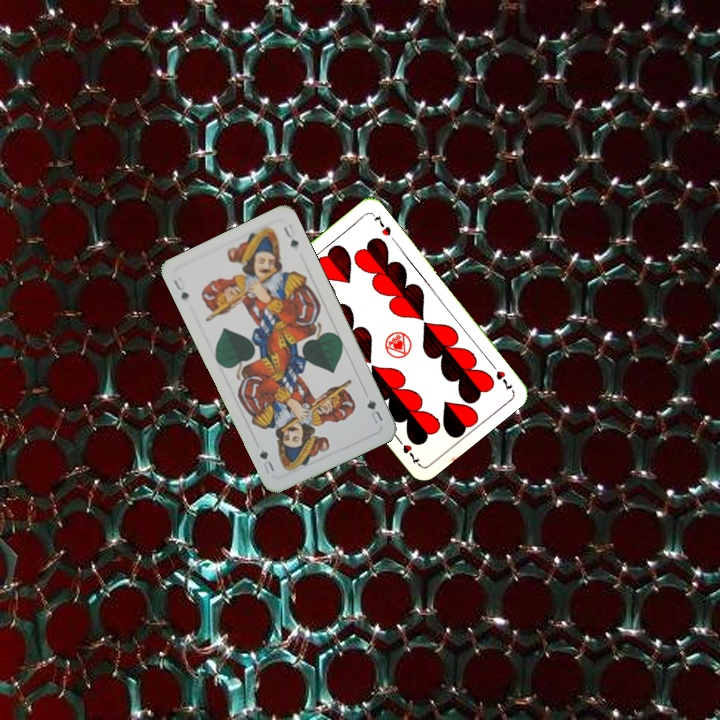GU: (363, 395, 386, 426), (169, 273, 191, 302)
H7: (486, 358, 515, 393)
